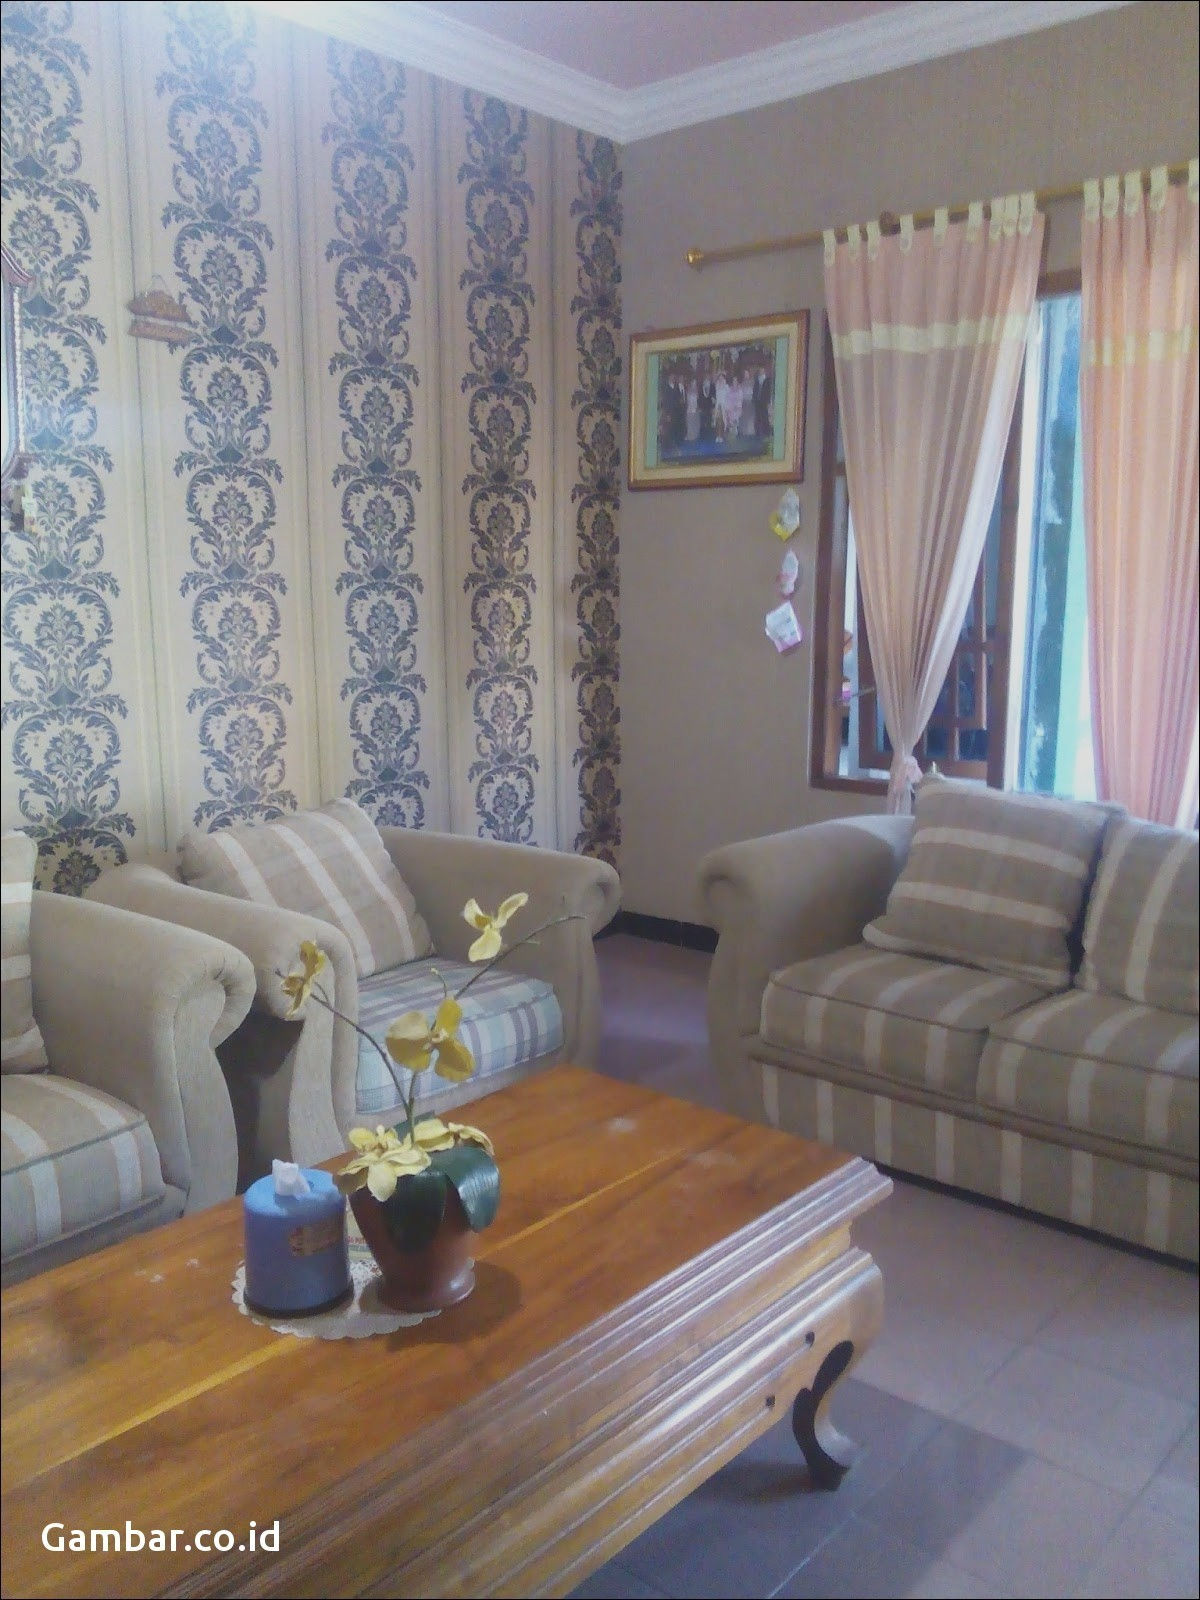foto: (616, 319, 817, 493)
kursi: (158, 792, 615, 1075), (1, 831, 239, 1214)
meja: (19, 1073, 858, 1600)
sova: (701, 776, 1200, 1245)
tanaman: (268, 906, 533, 1301)
